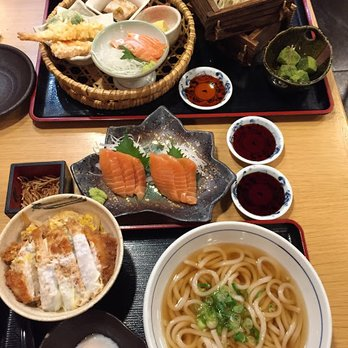Soba: (159, 247, 314, 348)
